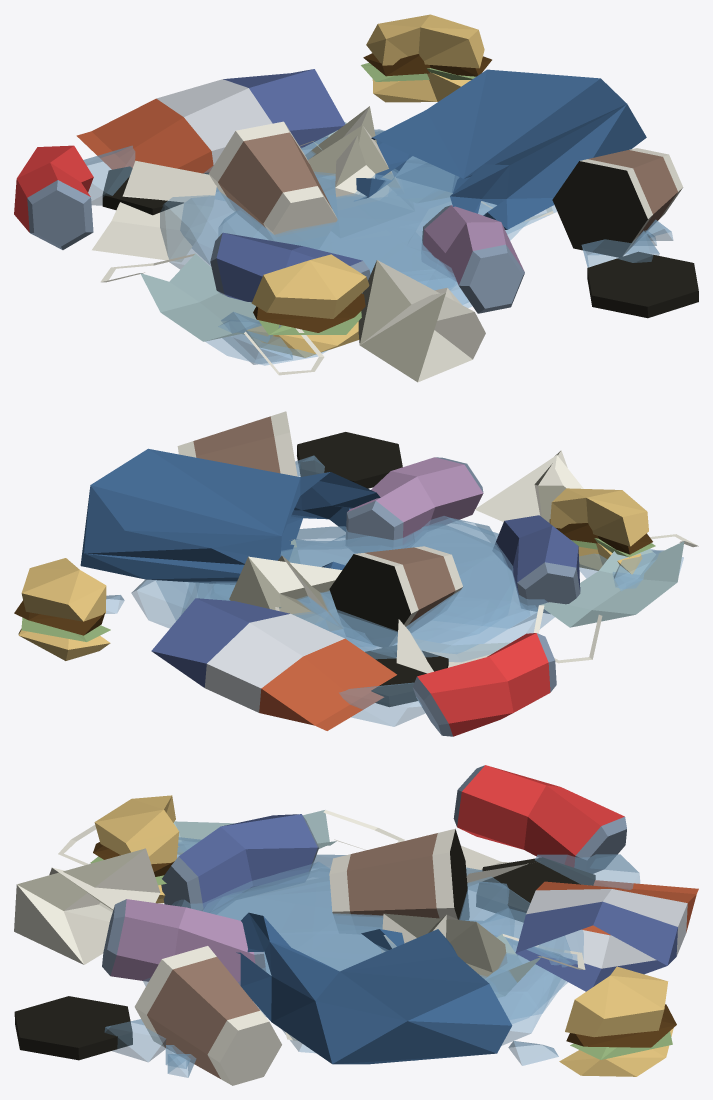
The model's file is trash.fbx.
The picture shows the model from 3 angles, top to bottom: view 1: azimuth 30°, elevation 25°; view 2: azimuth 150°, elevation 25°; view 3: azimuth 270°, elevation 25°; orthographic projection. The views are drawn at different scales.
Visible parts, largest first — view 1: PlasticBag, PuddleB, Coffee, Chips, PuddleD, Coffee.001, CrumpledPaper, Hamburger.001, PuddleC, Hamburger, Paper, Can.001 (+5 smaller); view 2: PlasticBag, Chips, PuddleD, PuddleB, Coffee.001, Can, Coffee, Can.001, PuddleC, Hamburger, Plane, Hamburger.001 (+5 smaller); view 3: PlasticBag, Coffee, PuddleD, Chips, Coffee.001, PuddleB, Can, Can.002, CrumpledPaper, PuddleC, Hamburger, Can.001 (+6 smaller).
Boxes of the visible parts, x1,y1,x2,y2 form: PlasticBag: (355, 69, 646, 229); PuddleB: (180, 160, 659, 364); Coffee: (552, 148, 698, 318); Chips: (76, 69, 345, 173); PuddleD: (160, 130, 673, 304); Coffee.001: (102, 121, 337, 242); CrumpledPaper: (358, 260, 485, 382); Hamburger.001: (246, 254, 369, 357); PuddleC: (83, 129, 656, 284); Hamburger: (361, 14, 491, 102); Paper: (92, 160, 216, 262); Can.001: (422, 205, 524, 313); PlasticBag: (80, 448, 380, 584); Chips: (151, 598, 396, 730); PuddleD: (131, 516, 554, 662); PuddleB: (281, 455, 663, 657); Coffee.001: (329, 546, 462, 706); Can: (412, 633, 556, 736); Coffee: (177, 411, 402, 488); Can.001: (345, 457, 483, 552); PuddleC: (183, 523, 500, 726); Hamburger: (14, 558, 110, 660); Plane: (533, 534, 698, 663); Hamburger.001: (549, 488, 655, 574); PlasticBag: (236, 912, 512, 1064); Coffee: (14, 946, 281, 1085); PuddleD: (167, 854, 572, 1077); Chips: (515, 880, 698, 991); Coffee.001: (329, 828, 595, 926); PuddleB: (104, 837, 509, 1062); Can: (453, 765, 626, 873); Can.002: (161, 814, 318, 912); CrumpledPaper: (14, 848, 160, 964); PuddleC: (165, 854, 640, 1068); Hamburger: (559, 966, 676, 1076); Can.001: (102, 899, 266, 985).
Size of the model in its own units: 74.55 by 13.31 by 77.5.
Materials: 2 (1 with a texture image).
